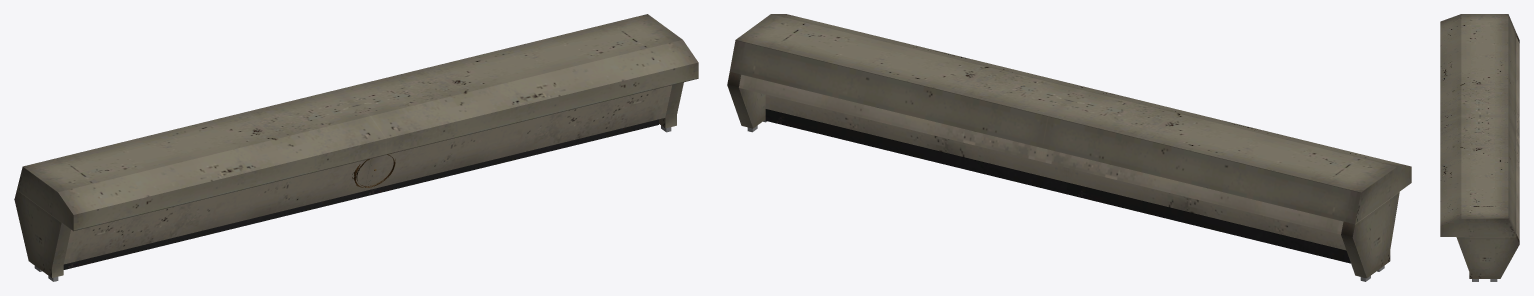
File: 183_ScratchCardreceipt.fbx
3 renders of one model, left to right at view 1: azimuth 30°, elevation 25°; view 2: azimuth 150°, elevation 25°; view 3: azimuth 270°, elevation 25°, orthographic. The views are drawn at different scales.
Visible parts, largest first — view 1: LOD_1_Group_0_Sub_1__sm30_183_ScratchCardReceipt01A_A_Mat; view 2: LOD_1_Group_0_Sub_1__sm30_183_ScratchCardReceipt01A_A_Mat; view 3: LOD_1_Group_0_Sub_1__sm30_183_ScratchCardReceipt01A_A_Mat.
Part boxes in pixels (box(x1,y1,x2,y2)): LOD_1_Group_0_Sub_1__sm30_183_ScratchCardReceipt01A_A_Mat: box(14, 14, 698, 281); LOD_1_Group_0_Sub_1__sm30_183_ScratchCardReceipt01A_A_Mat: box(727, 14, 1411, 281); LOD_1_Group_0_Sub_1__sm30_183_ScratchCardReceipt01A_A_Mat: box(1440, 14, 1519, 281).
Bounding box in the file's own units: 4.41 × 0.6511 × 0.7234.
